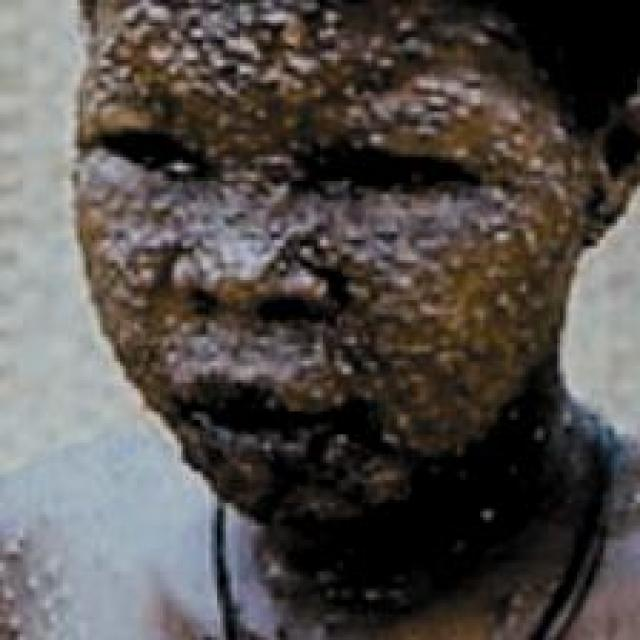monkeypox: (56, 9, 640, 571)
